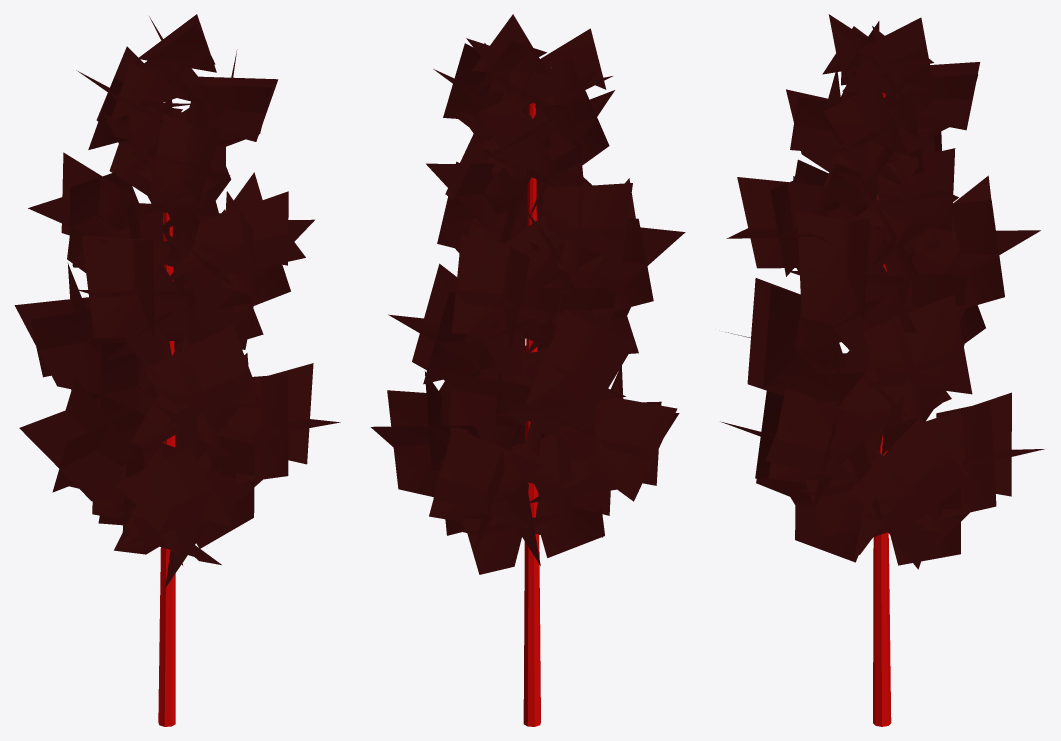
Rendered from birchOptimized_3.fbx.
3 renders of one model, left to right at view 1: azimuth 30°, elevation 25°; view 2: azimuth 150°, elevation 25°; view 3: azimuth 270°, elevation 25°, orthographic.
Parts seen in each view (by area): view 1: SM_Tree_Birch_03; view 2: SM_Tree_Birch_03; view 3: SM_Tree_Birch_03.
Part boxes in pixels (left/top/right/bottom): SM_Tree_Birch_03: left=14, top=14, right=340, bottom=726; SM_Tree_Birch_03: left=371, top=14, right=685, bottom=726; SM_Tree_Birch_03: left=720, top=14, right=1044, bottom=726.
Size of the model in its own units: 199 by 488 by 207.
